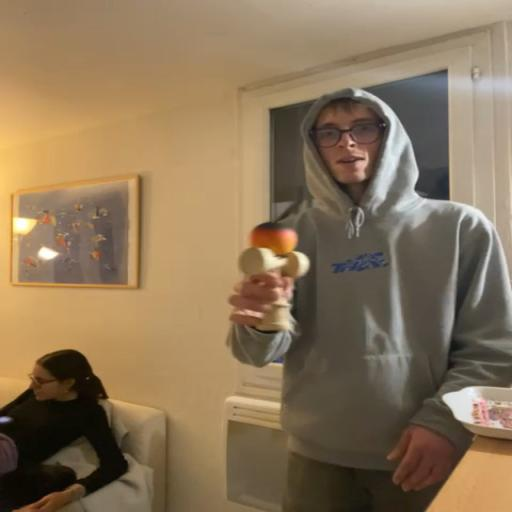kendama_ball: (250, 222, 298, 256)
